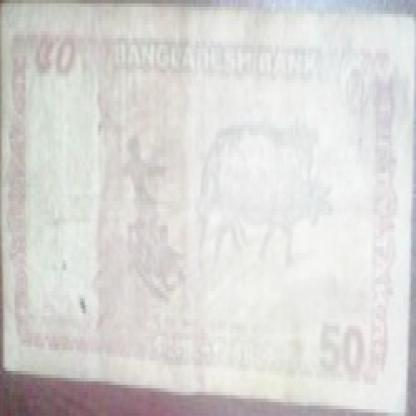Fifty taka: (312, 309, 370, 382), (28, 21, 80, 80)
